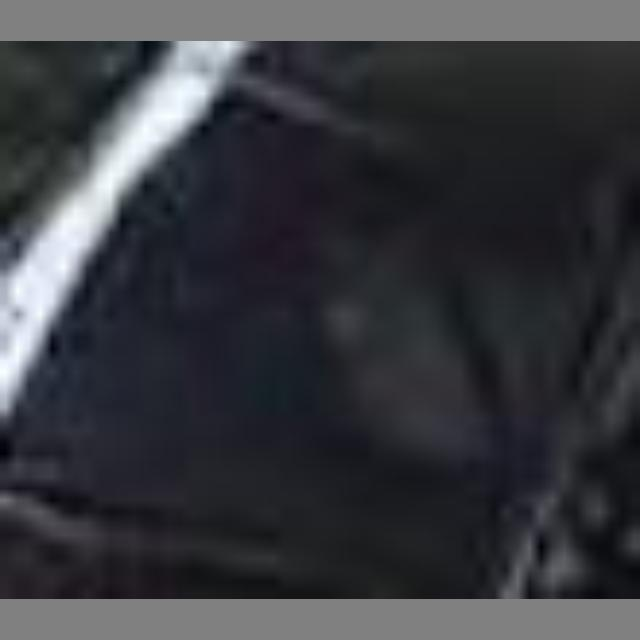pakai: (256, 181, 582, 506)
